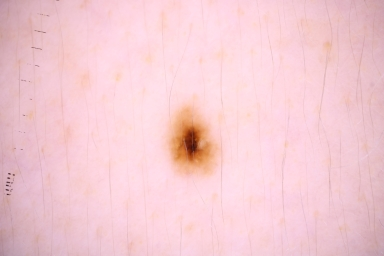nevus: (171, 112, 211, 174)
